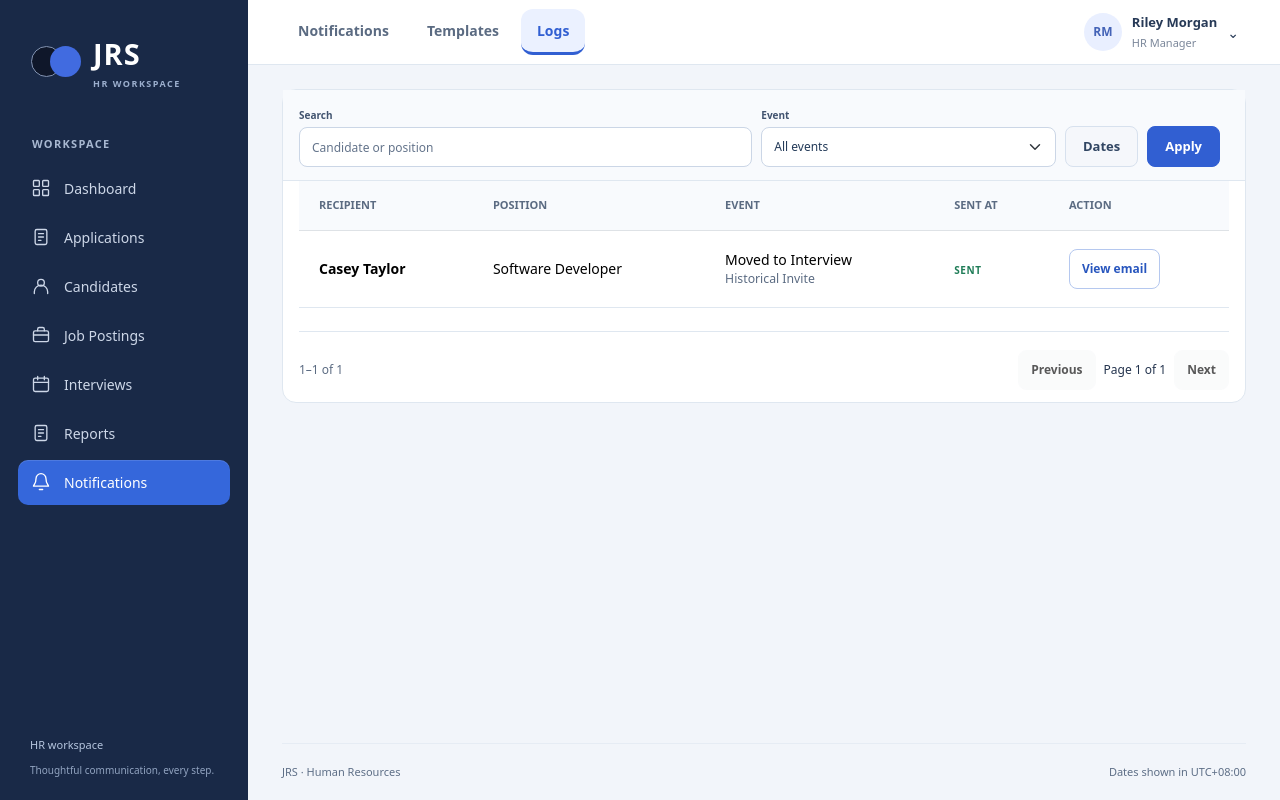
Test: email templates › keeps filtered results working without a heading count
The width and height of the screenshot is (1280, 800).
Expected: the table named "Sent email history" is shown, [299,181,1229,308]
In the search field labelled "Search": (526, 147) [299,127,752,167], type "No match"
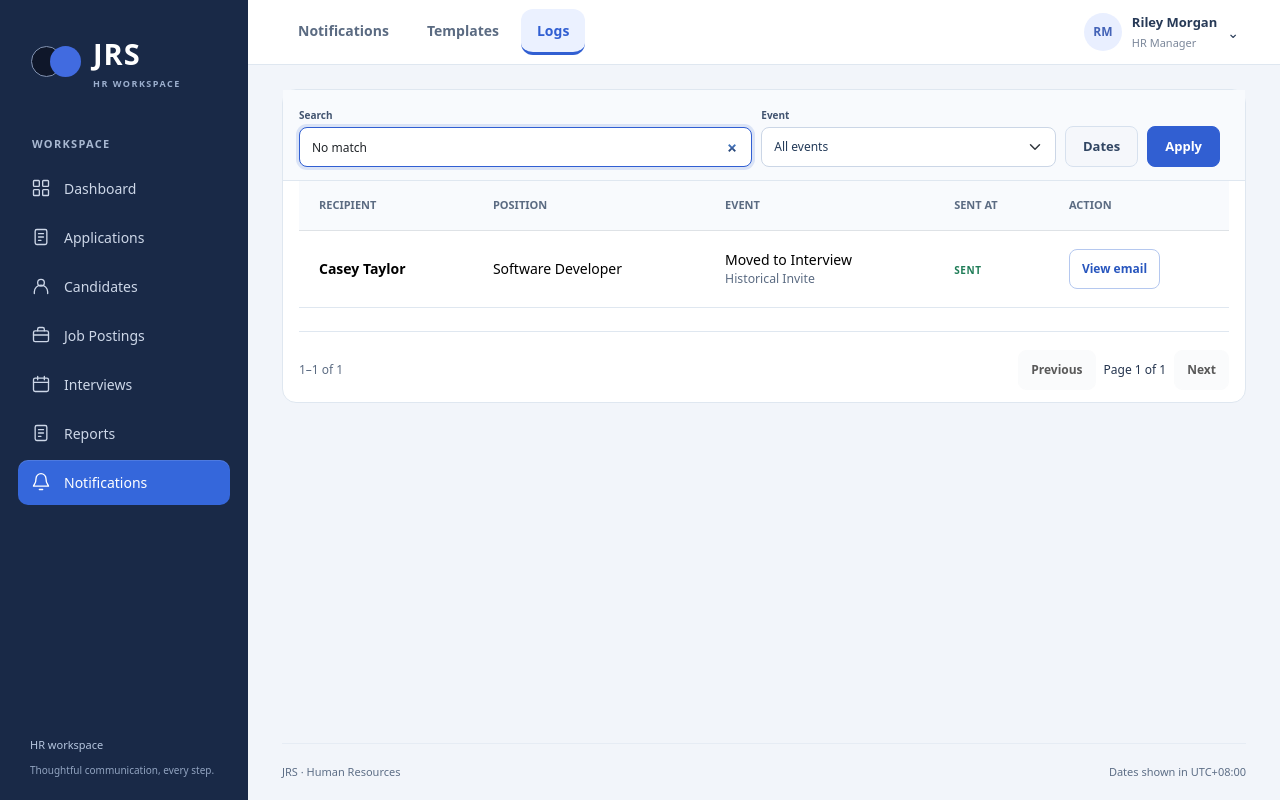
Click the button "Apply": (1184, 146) [1147,126,1220,167]
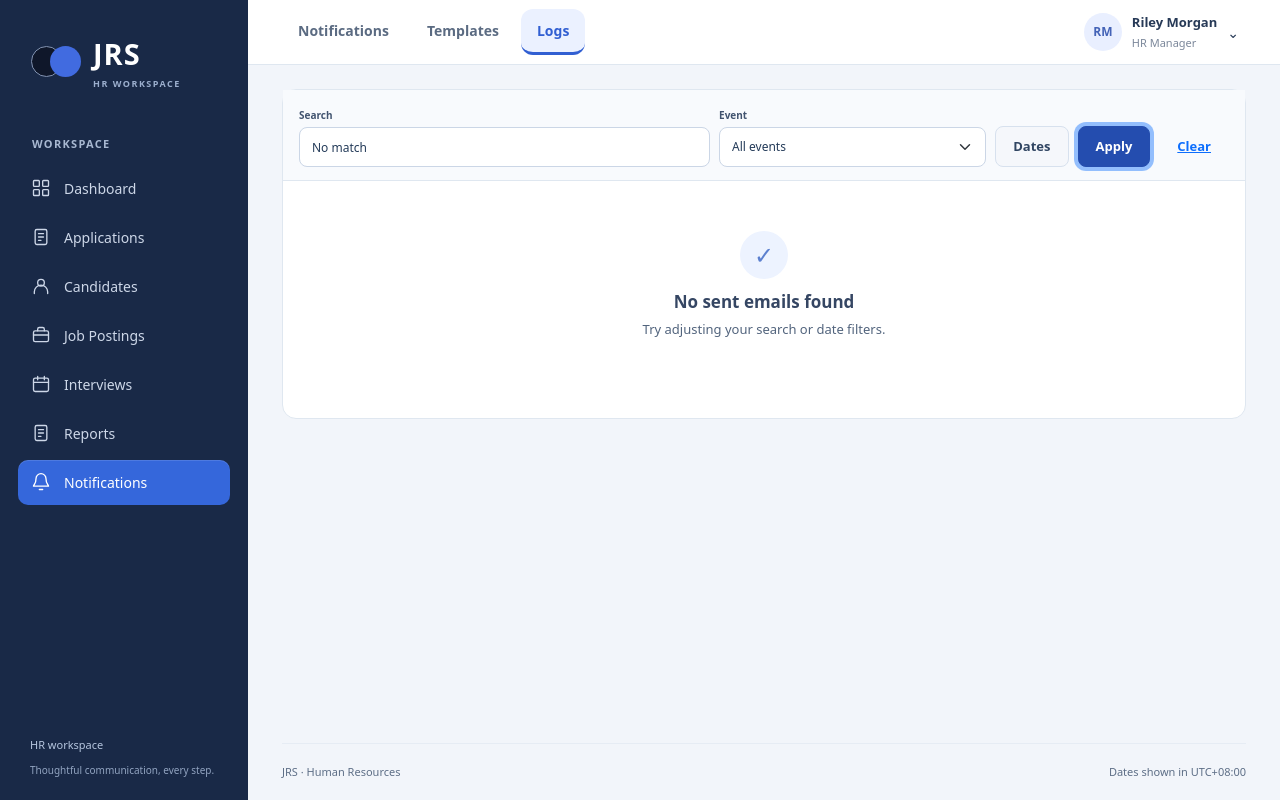
Result: the heading "No sent emails found" is shown at [674,290,854,313]
